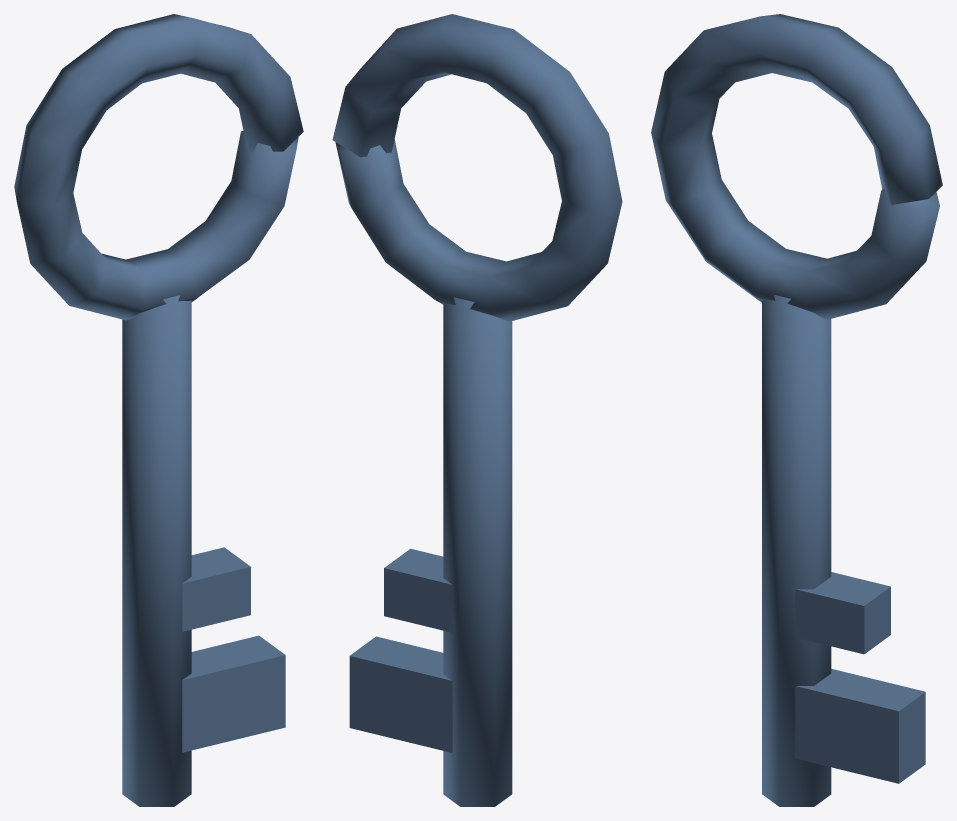
File: gps.glb
The picture shows the model from 3 angles, left to right: view 1: azimuth 30°, elevation 25°; view 2: azimuth 150°, elevation 25°; view 3: azimuth 330°, elevation 25°; orthographic projection.
Visible parts, largest first — view 1: gps_v0; view 2: gps_v0; view 3: gps_v0.
Part boxes in pixels (x1=…): gps_v0: x1=14, y1=14, x2=303, y2=806; gps_v0: x1=332, y1=14, x2=622, y2=806; gps_v0: x1=651, y1=14, x2=942, y2=806.
Bounding box in the file's own units: 0.1235 × 0.3199 × 0.026.
